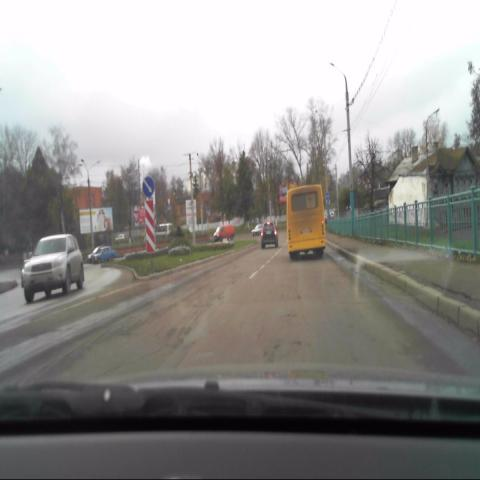4_2_1: (142, 175, 153, 197)
